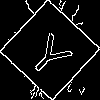Y: (25, 25, 80, 82)
